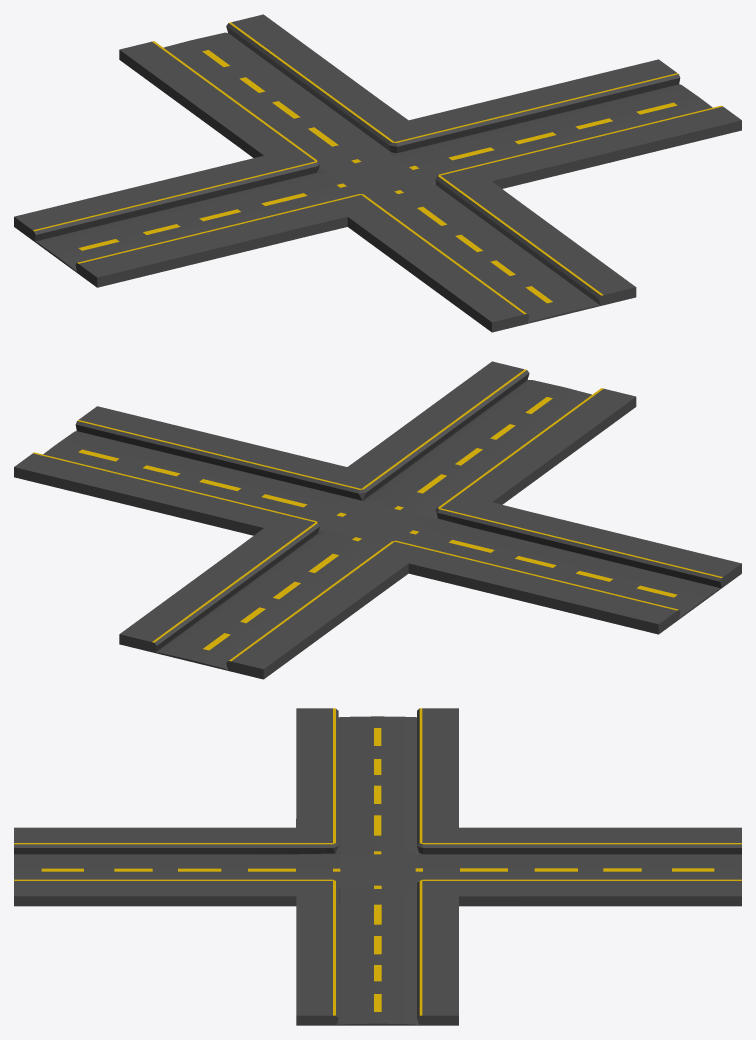
Rendered from Road_T_section.fbx.
The picture shows the model from 3 angles, top to bottom: view 1: azimuth 30°, elevation 25°; view 2: azimuth 150°, elevation 25°; view 3: azimuth 270°, elevation 25°; orthographic projection. The views are drawn at different scales.
Visible parts, largest first — view 1: pCube6; view 2: pCube6; view 3: pCube6.
Boxes of the visible parts, x1,y1,x2,y2 form: pCube6: (14, 14, 741, 332); pCube6: (14, 361, 741, 679); pCube6: (14, 708, 741, 1025).
Bounding box in the file's own units: 2173 × 32.87 × 2176.
